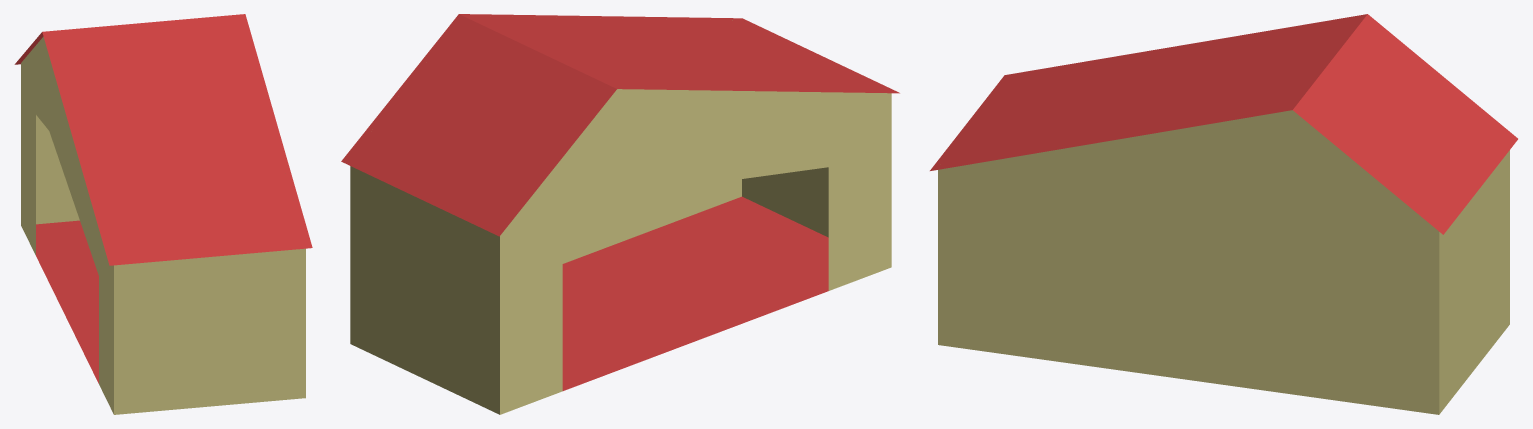
3 renders of one model, left to right at view 1: azimuth 30°, elevation 25°; view 2: azimuth 150°, elevation 25°; view 3: azimuth 270°, elevation 25°, orthographic. The views are drawn at different scales.
Size of the model in its own units: 14.95 by 22.17 by 11.93.
